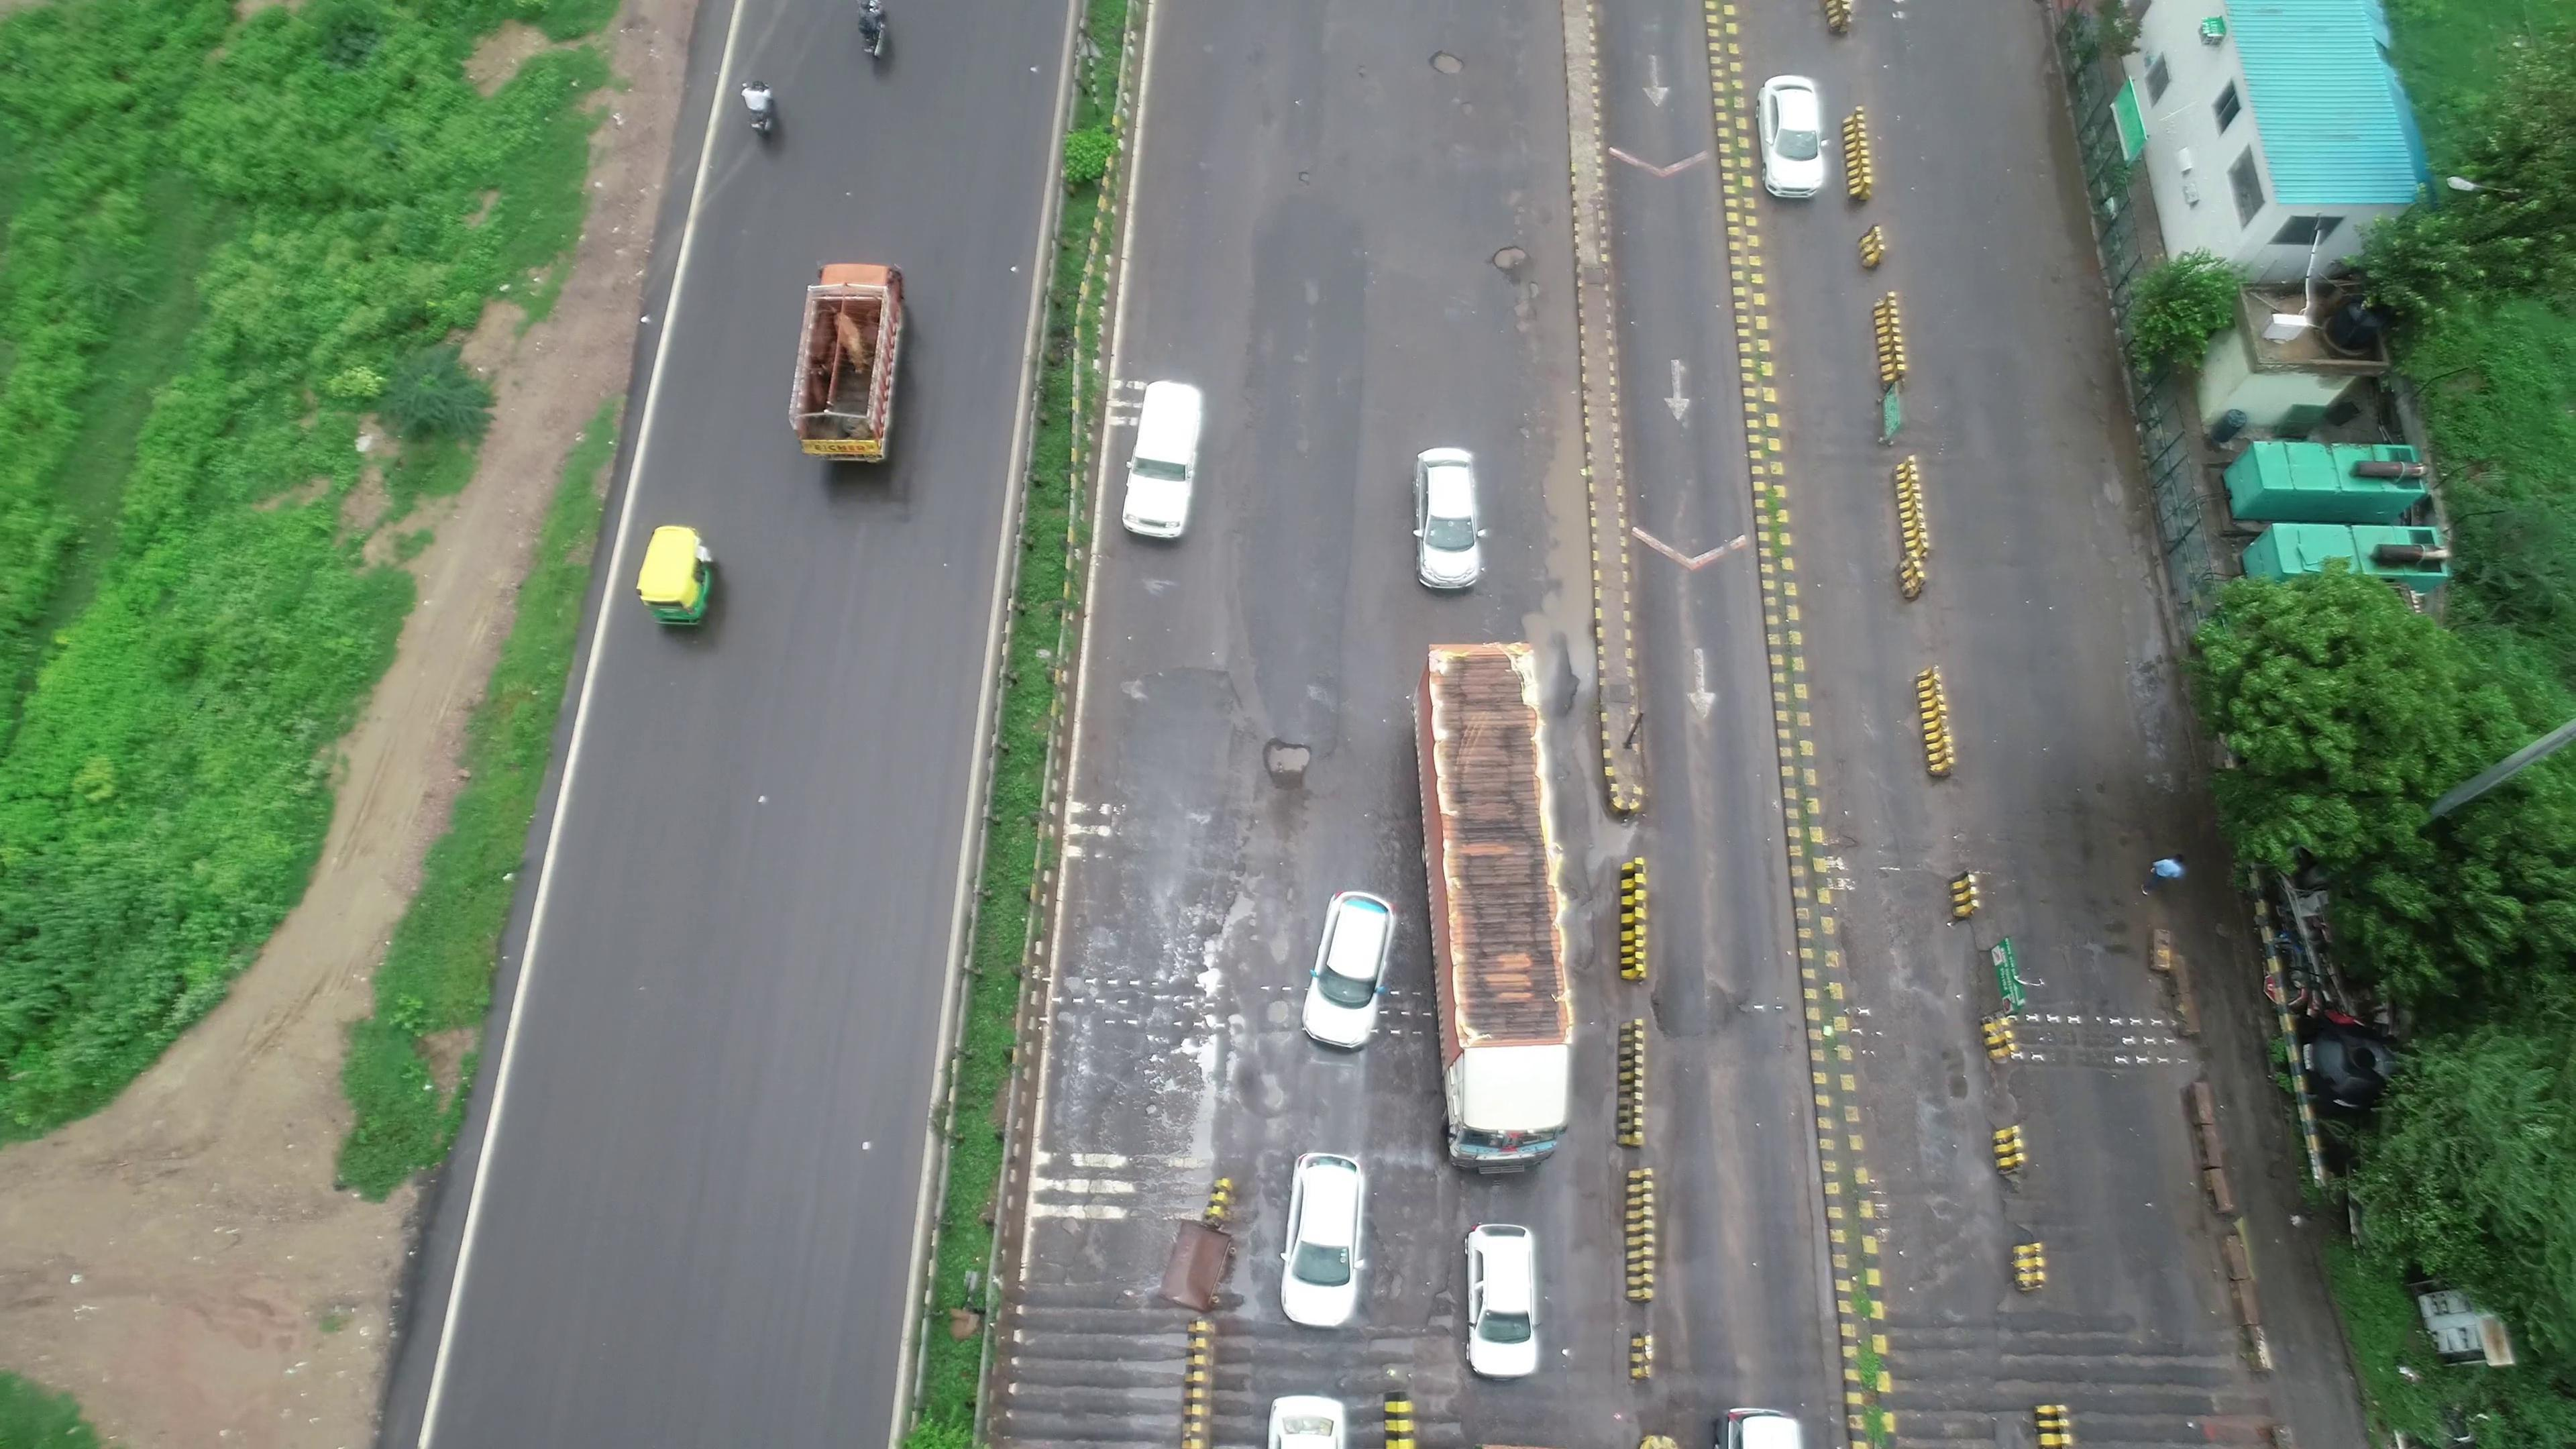Potholes: (1113, 901, 1260, 1111), (1215, 706, 1350, 801)
